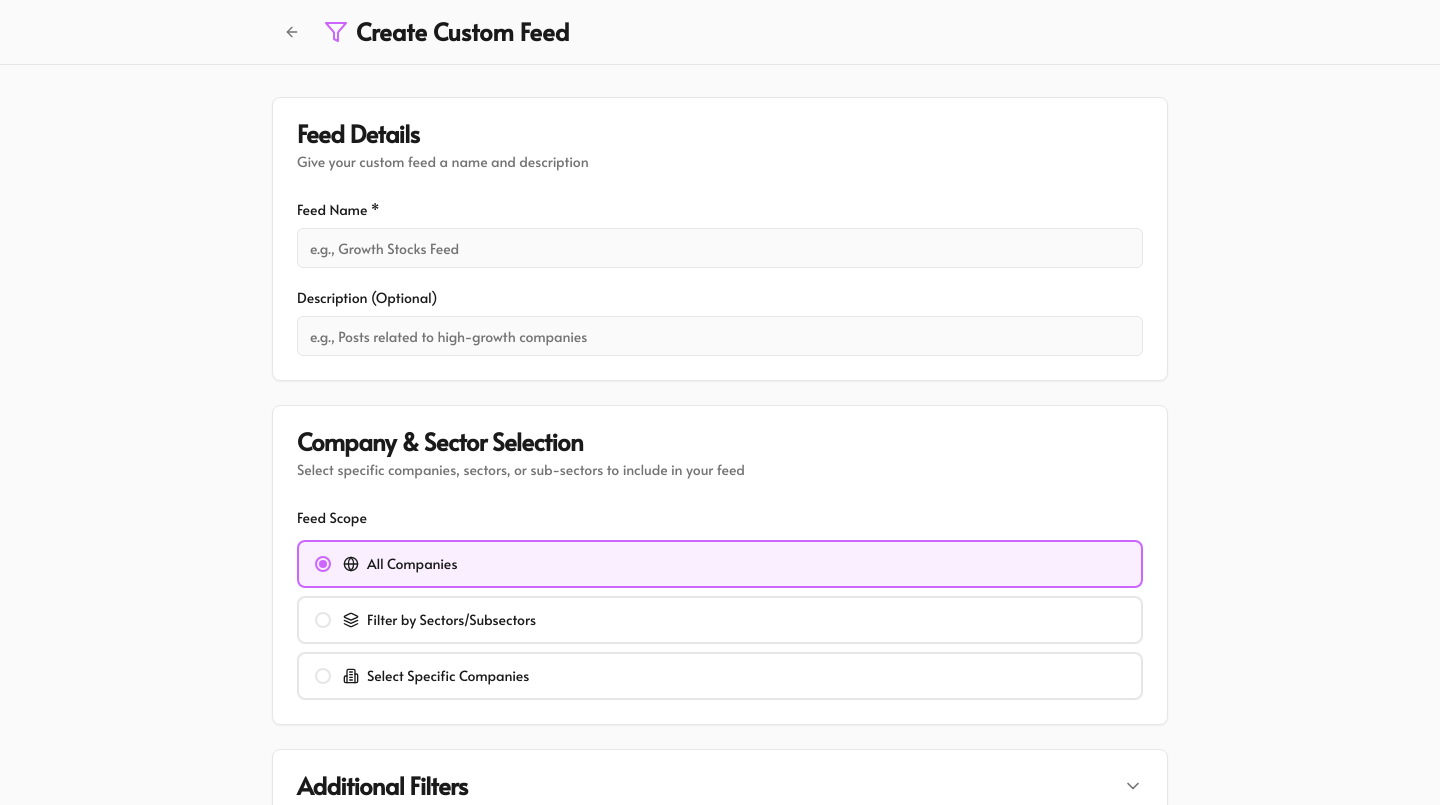
Test: Filters Page › should handle empty filter configuration
Click the text "Additional Filters".
click(382, 786)  # box 297,774 -> 468,798
(page scrolled)
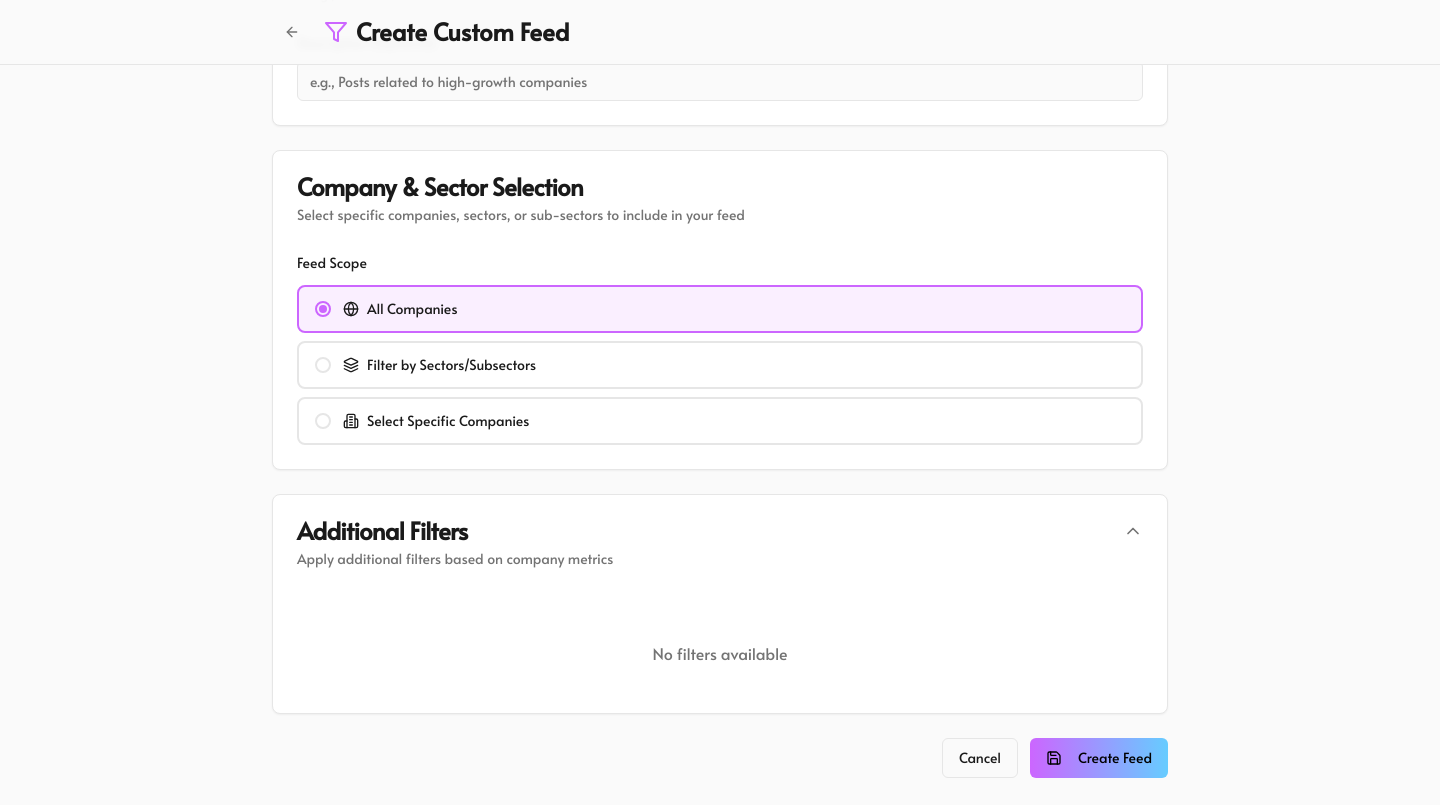
Expected: the text "No filters available" is shown, 652,642 -> 788,664
